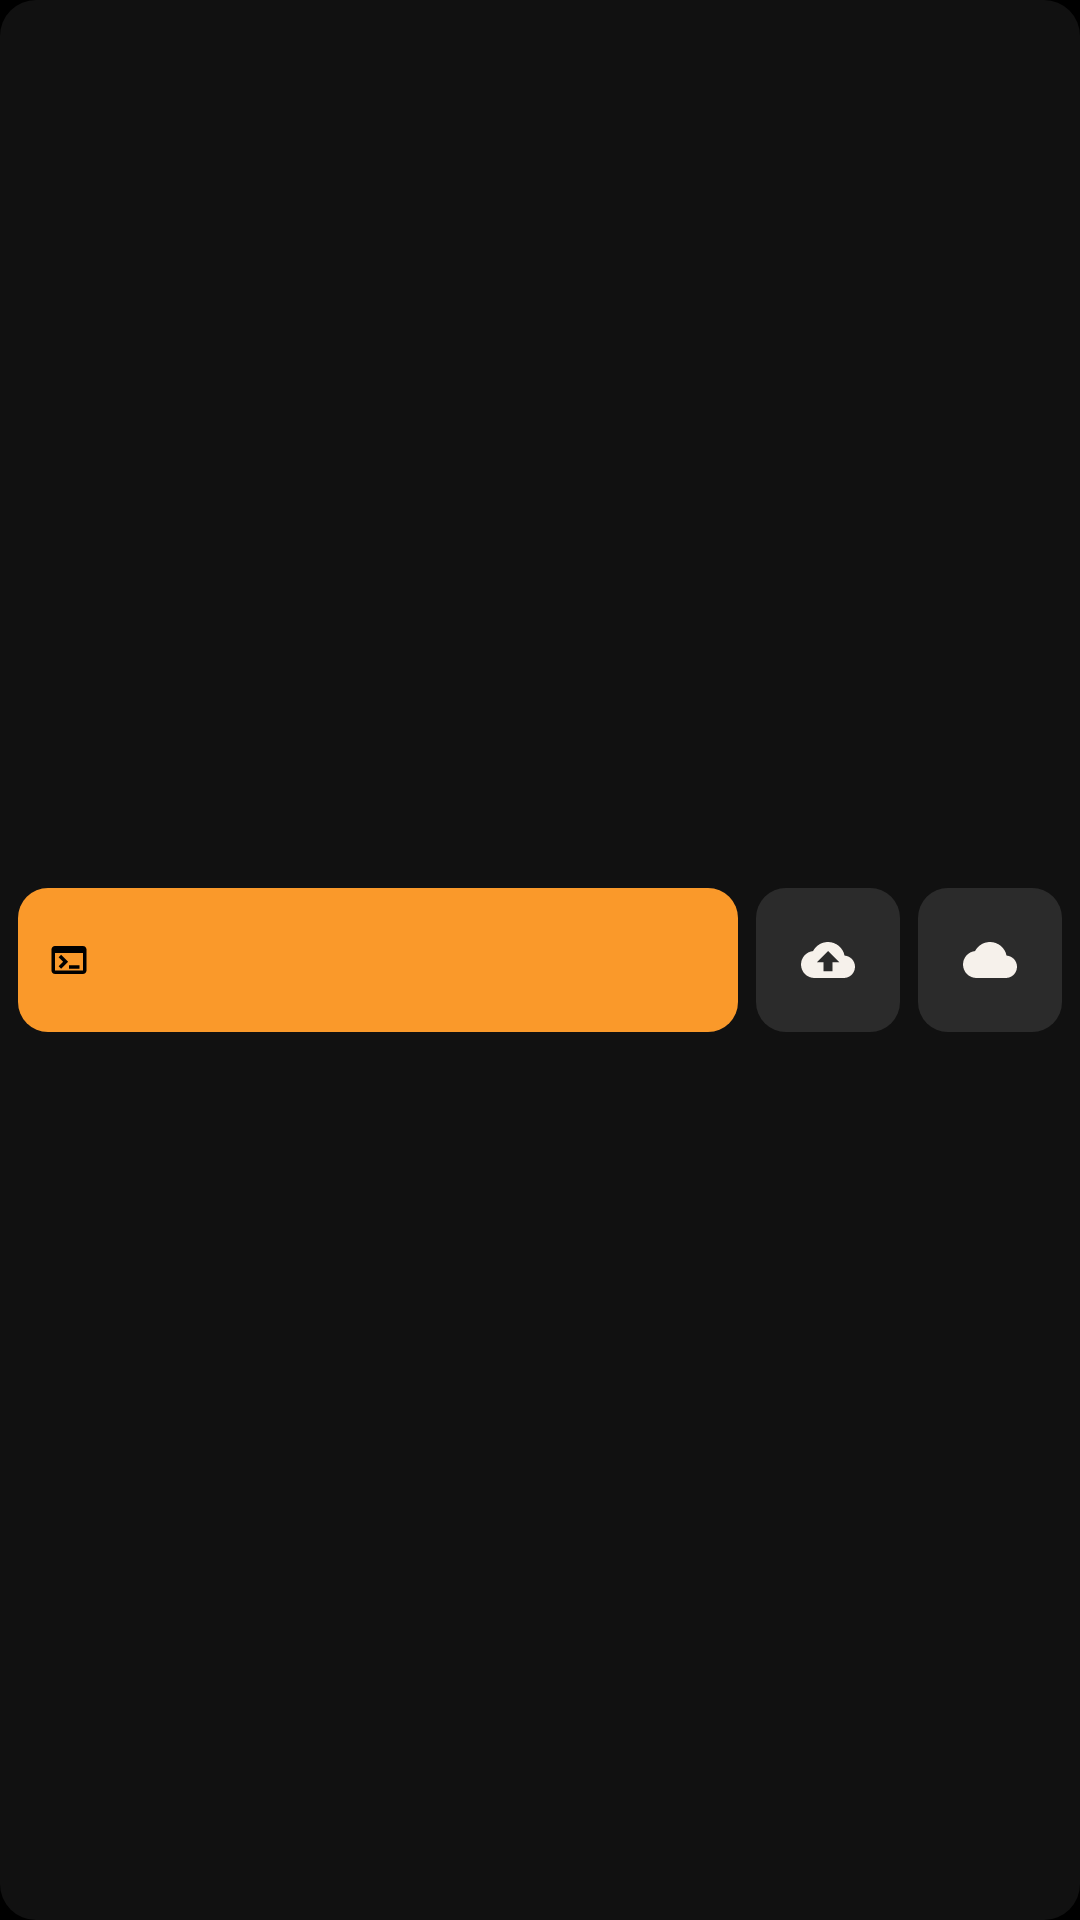

Icon click points for this 1080x1920 phone screenshot, format (x,y):
widget cloud upload: (828,960)
widget terminal: (69,960)
